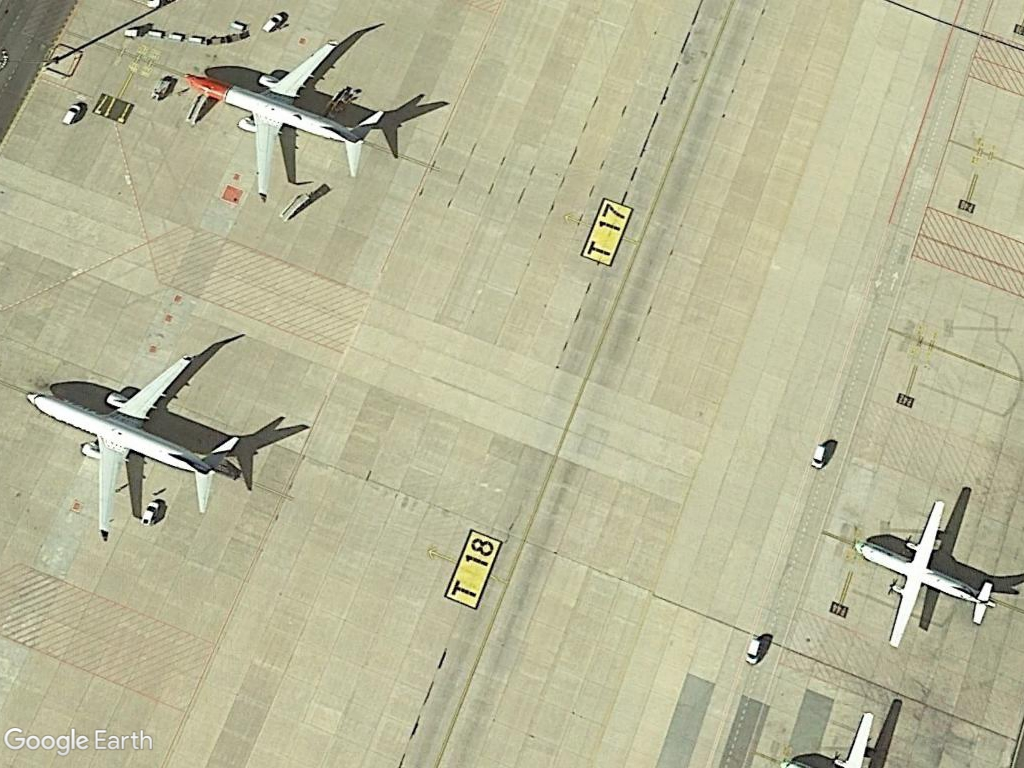airliner: (27, 340, 244, 543), (175, 33, 391, 210)
propeller: (850, 484, 1008, 654)
stairtruck: (277, 183, 315, 225)
